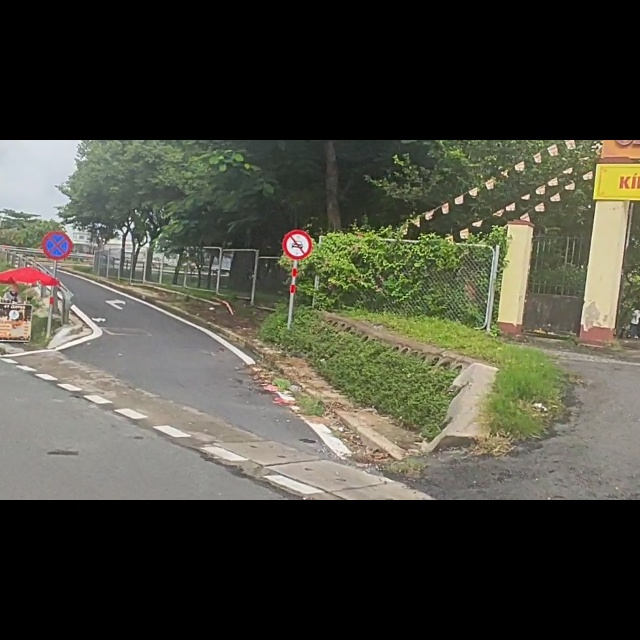bien_cam: (41, 161, 73, 215), (282, 158, 313, 213)
